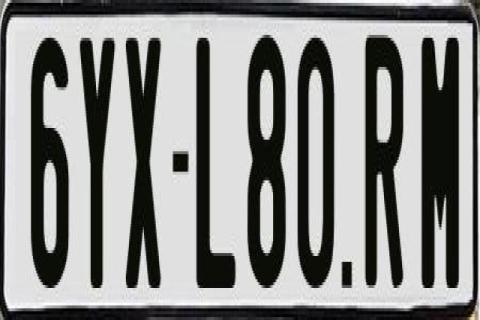0: (296, 38, 338, 300), (28, 38, 70, 288), (247, 32, 285, 302)
L: (195, 29, 239, 279)
M: (419, 29, 460, 282)
R: (362, 29, 404, 285)
X: (122, 38, 159, 288)
Y: (78, 38, 113, 288)
